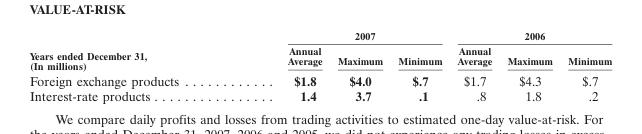table: (28, 28, 611, 103)
table column: (28, 28, 232, 103), (232, 28, 329, 103), (329, 28, 389, 103), (389, 28, 449, 103), (499, 28, 559, 103), (559, 28, 611, 103), (449, 28, 499, 103)
table column header: (28, 28, 611, 72)
table row: (28, 42, 611, 72), (28, 87, 611, 103), (28, 72, 611, 87), (28, 28, 611, 42)
table spanning cell: (28, 28, 232, 72), (232, 28, 449, 42), (449, 28, 611, 42)
